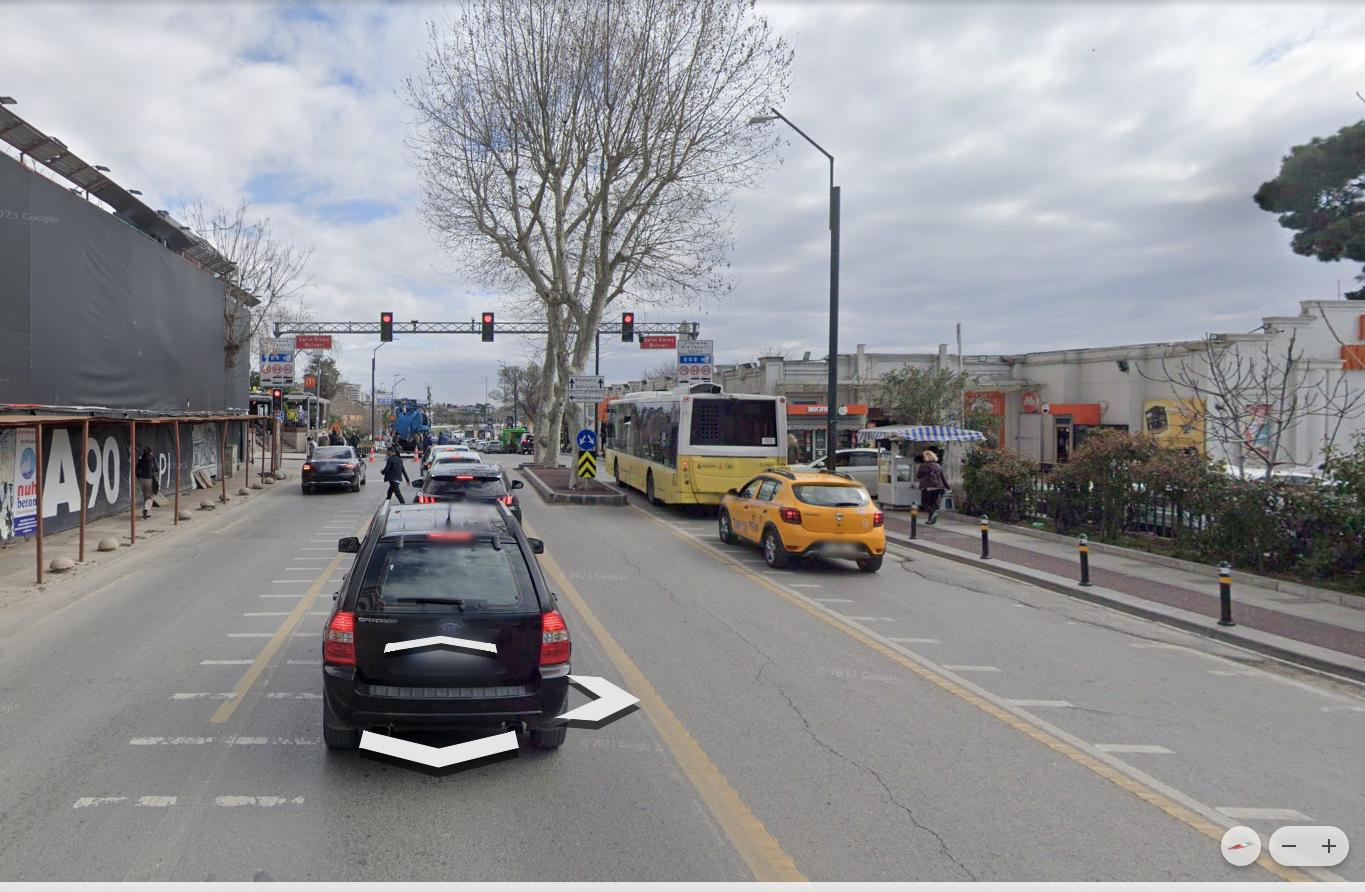redlight: (622, 310, 636, 342), (381, 311, 393, 344), (482, 312, 493, 343), (272, 388, 281, 411)
